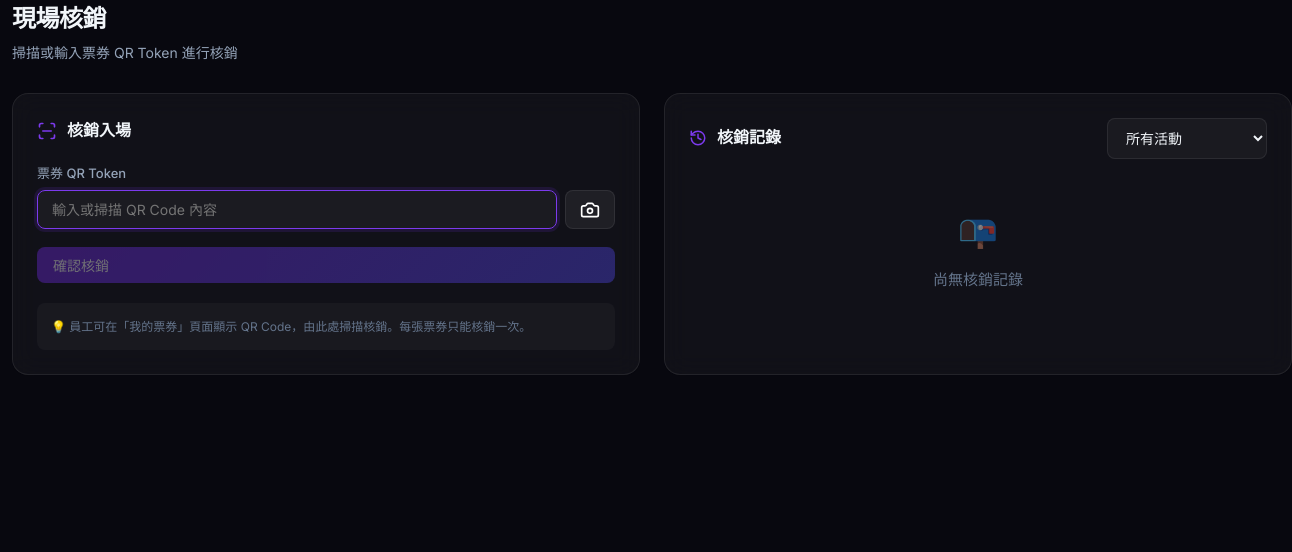
CheckIn › 未知核銷錯誤會顯示後端訊息
The image size is (1292, 552).
Type "QR-TOKEN-123456" into the field with placeholder "輸入或掃描 QR Code 內容".
click(297, 210); type("QR-TOKEN-123456")  # box [37,190,557,229]
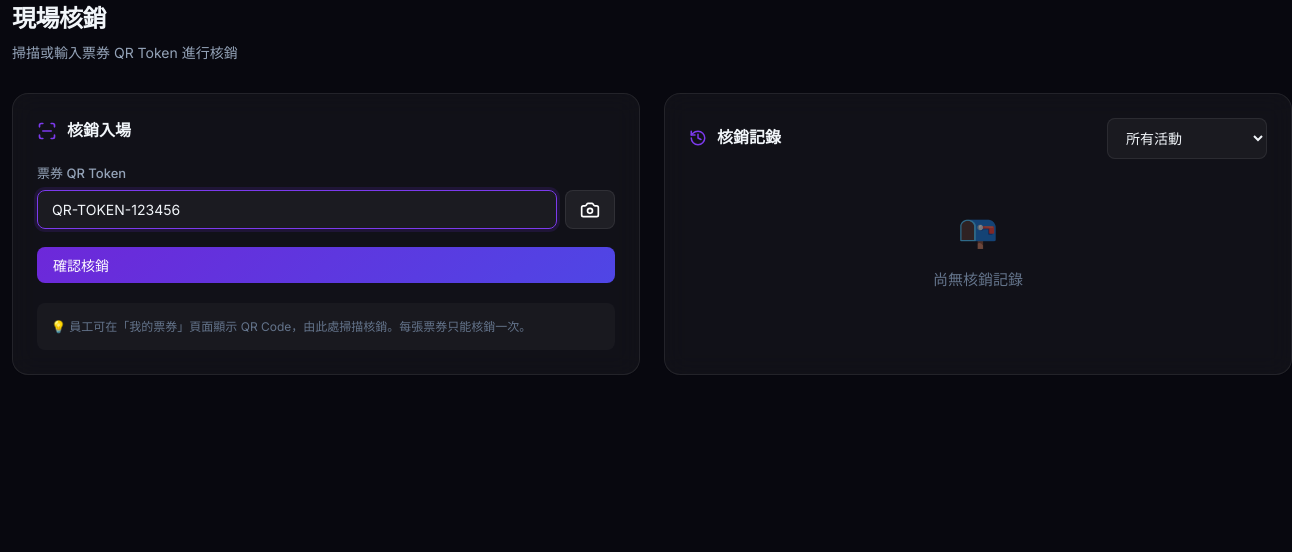
Click the button "確認核銷".
click(81, 266)  # box [37,247,615,283]
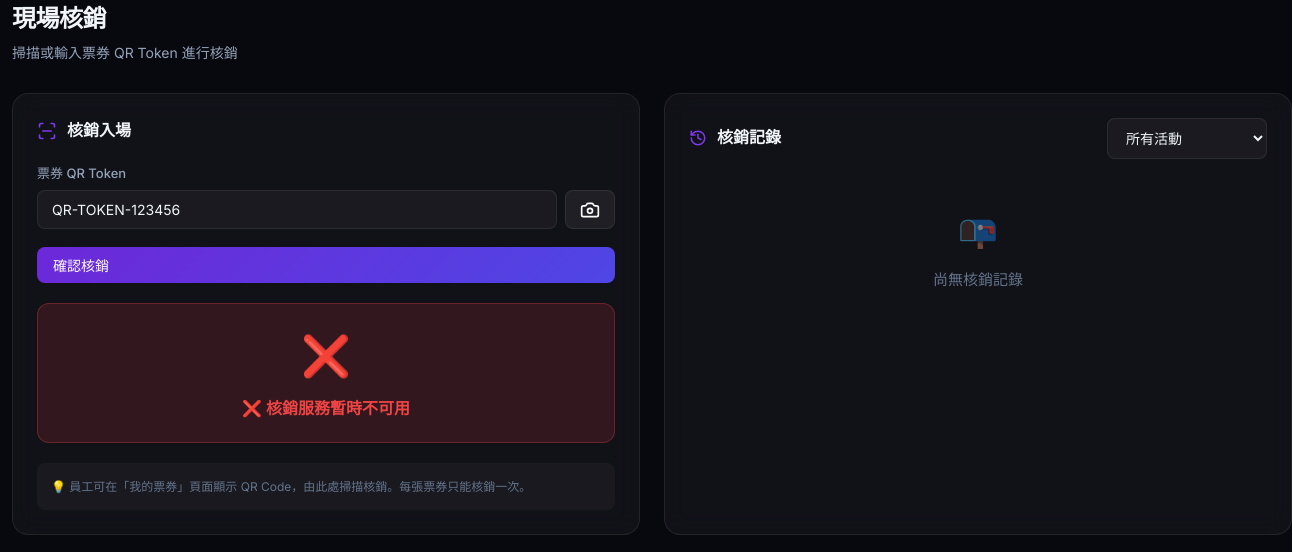
Expected: the text "❌ 核銷服務暫時不可用" is shown, [242,398,410,418]
